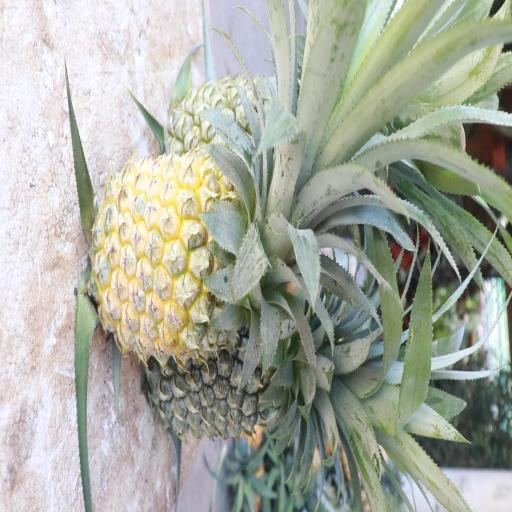Pineapple - v8 v1: (92, 154, 313, 354)
